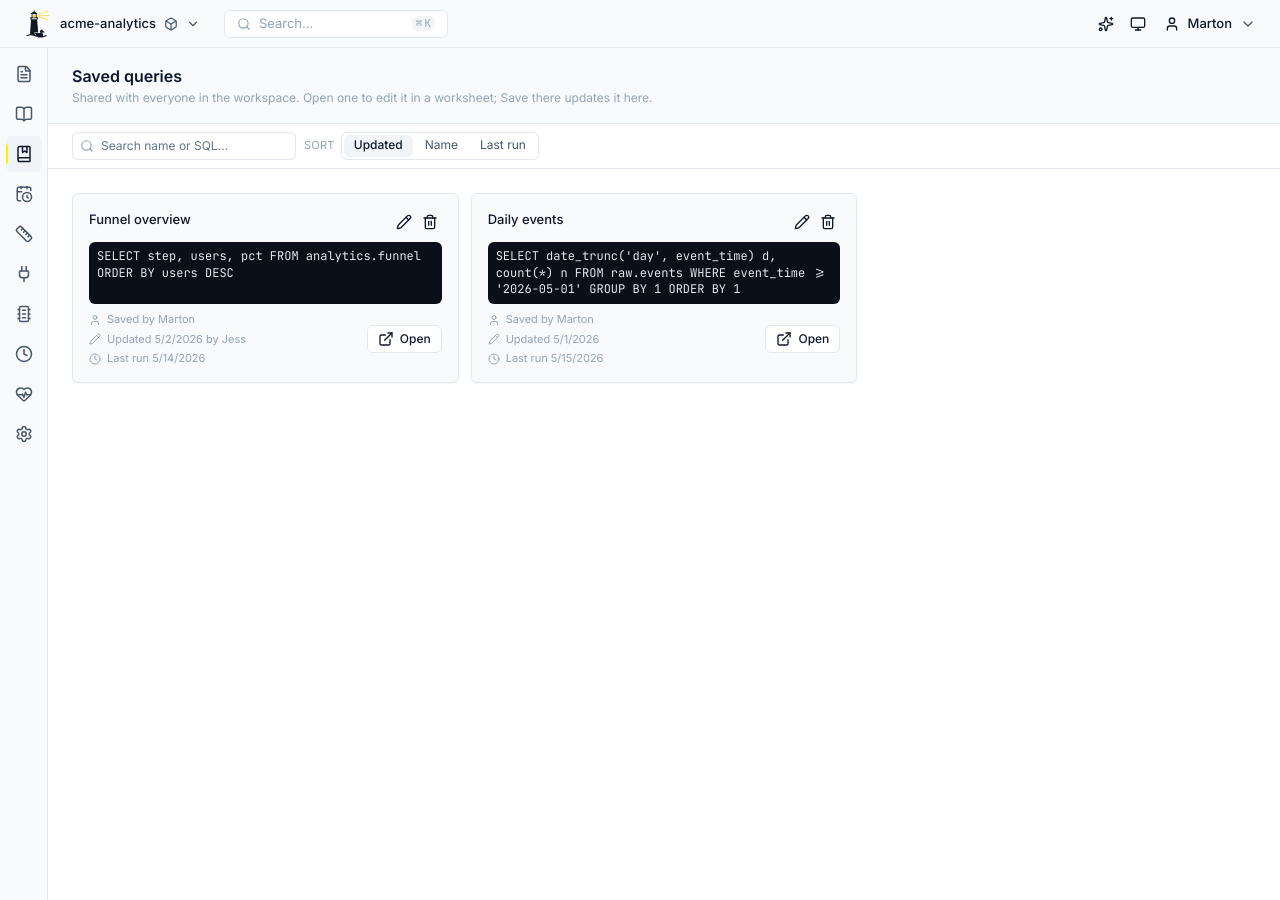
SavedQueriesPage › deletes a saved query
Expected: the text "Daily events" is shown, x1=488 y1=210 x2=563 y2=229
Click the button named "Delete Daily events" at {"x": 828, "y": 222}, box x1=816 y1=210 x2=840 y2=234
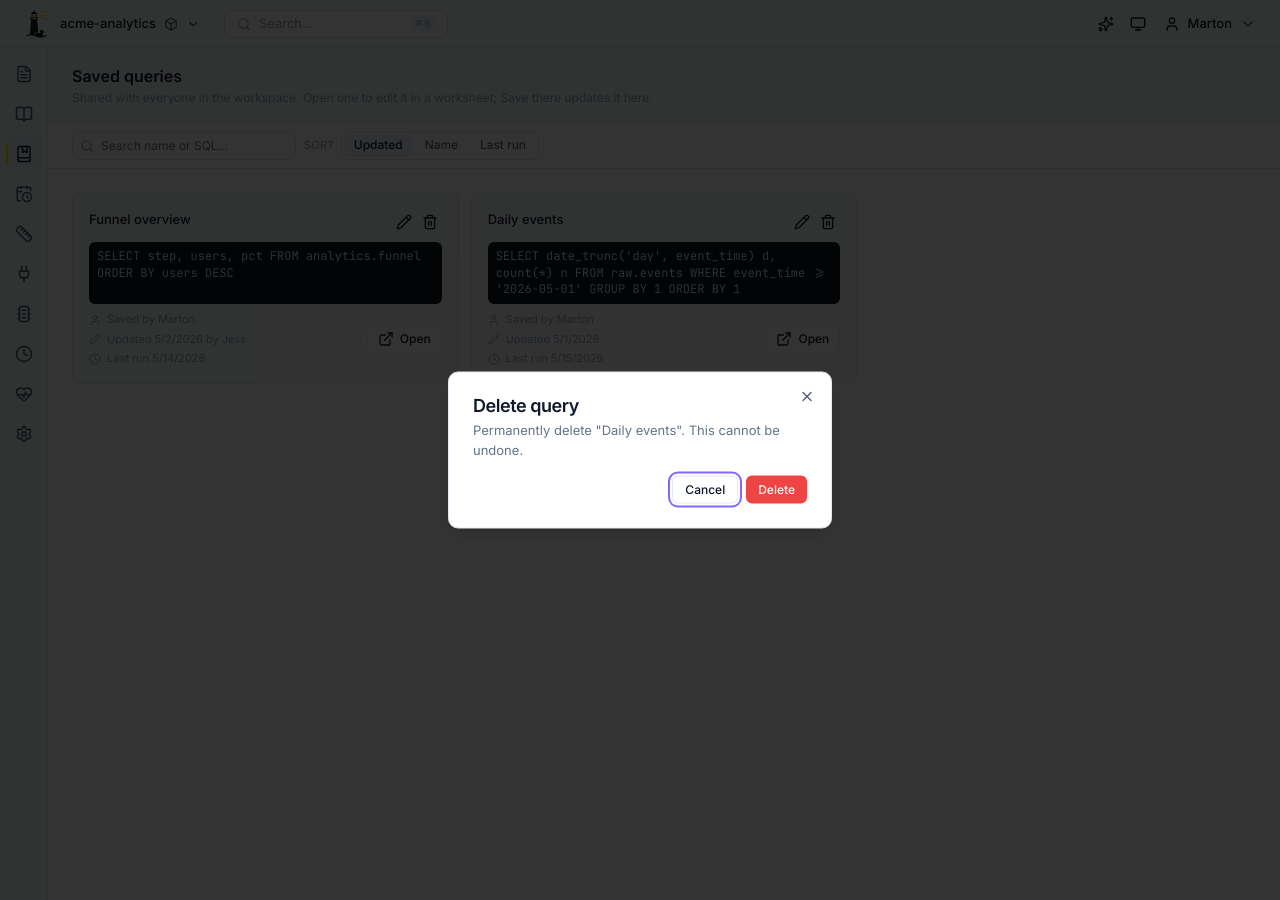
Click the button "Delete" at {"x": 777, "y": 490}, box x1=746 y1=476 x2=807 y2=504
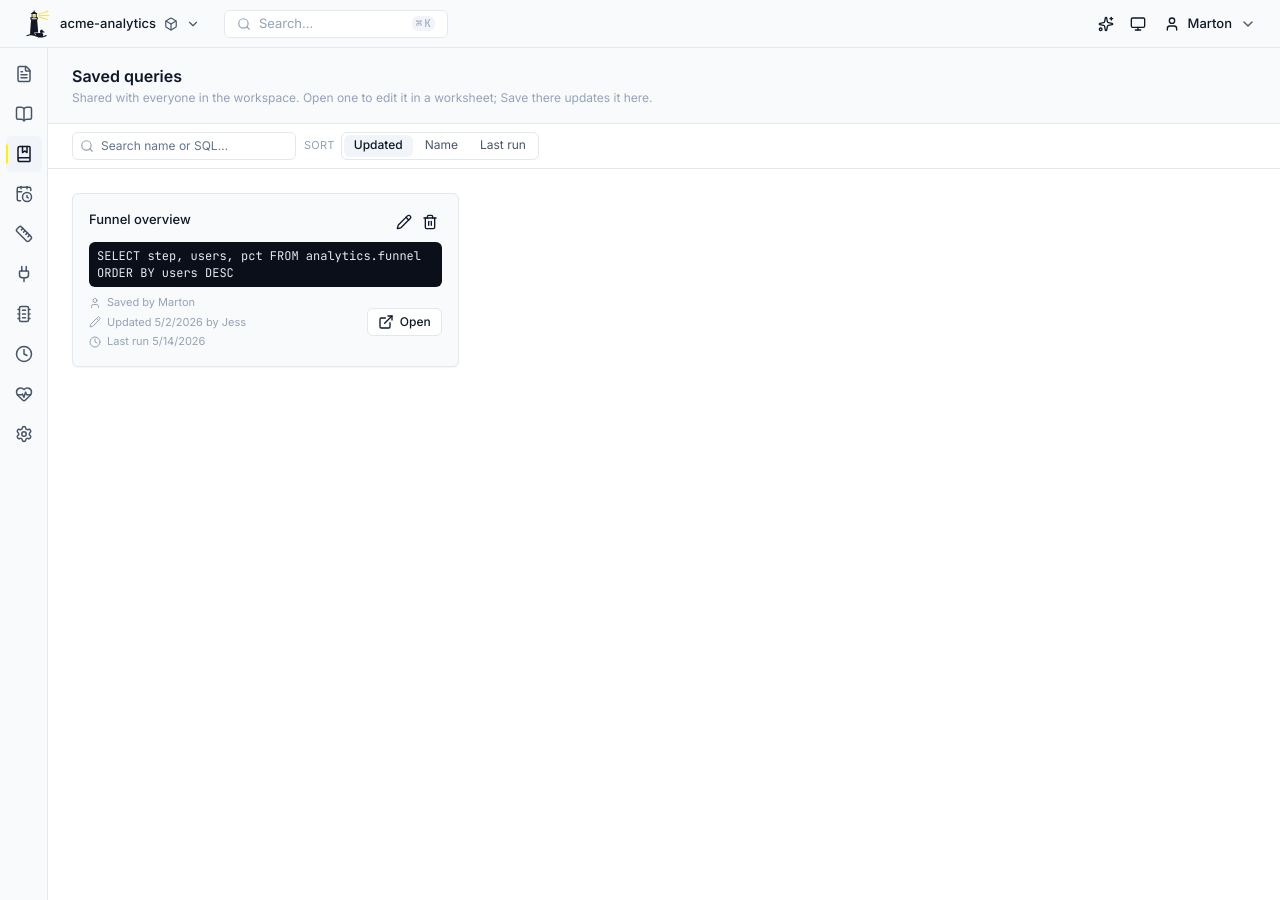
Expected: the text "Funnel overview" is shown, x1=89 y1=210 x2=191 y2=229
Expected: the text "Daily events" is gone
